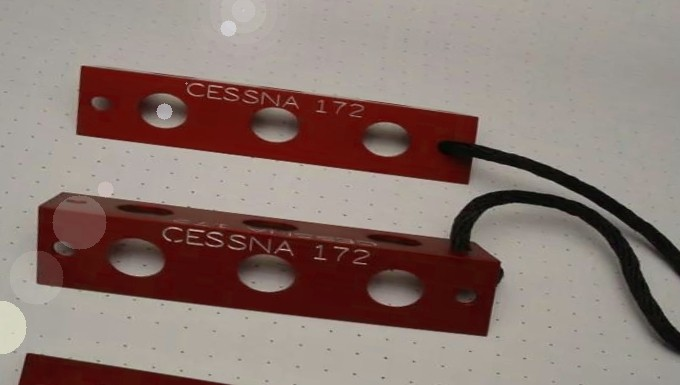chock: (23, 179, 513, 352), (64, 57, 493, 194)
